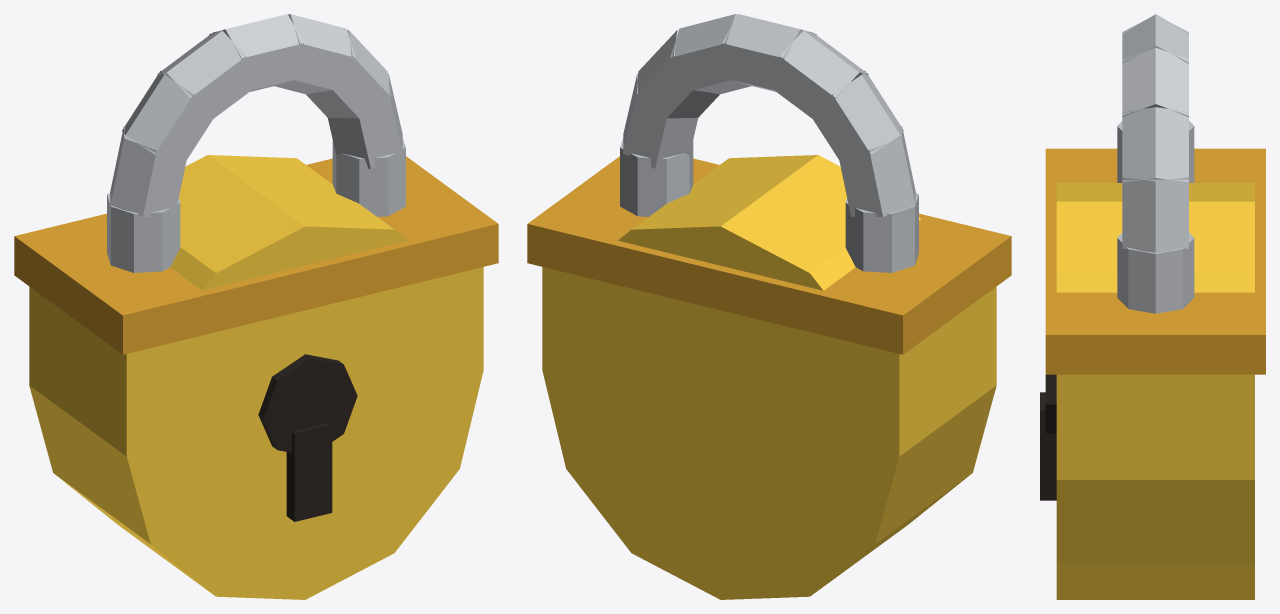
The model's file is padlock.glb.
3 views of the same model, side by side, from view 1: azimuth 30°, elevation 25°; view 2: azimuth 150°, elevation 25°; view 3: azimuth 270°, elevation 25° (orthographic).
Parts seen in each view (by area): view 1: padlock; view 2: padlock; view 3: padlock.
Boxes of the visible parts, <box> form: padlock: <box>14,14,498,599</box>; padlock: <box>527,14,1011,599</box>; padlock: <box>1040,14,1265,599</box>.
Size of the model in its own units: 0.4 by 0.552 by 0.205.
Materials: 1 (1 with a texture image).
